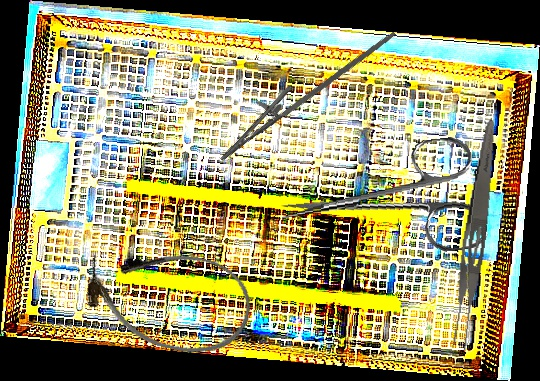Cannula: (76, 234, 261, 365)
Dressing Forceps: (446, 117, 501, 354)
Iris Scissors: (274, 134, 490, 271)
Needle Holder: (208, 0, 397, 181)
